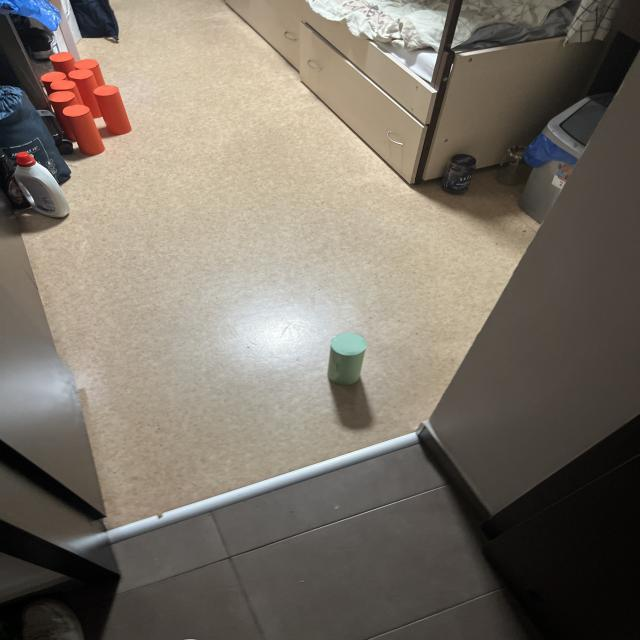meta: (328, 333, 367, 385)
